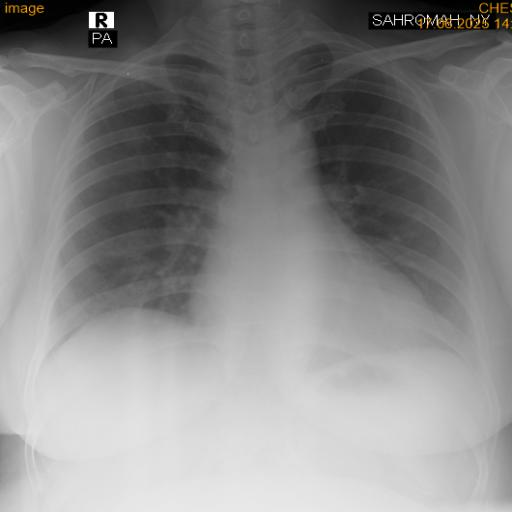kardiomegali: (24, 30, 493, 422)
